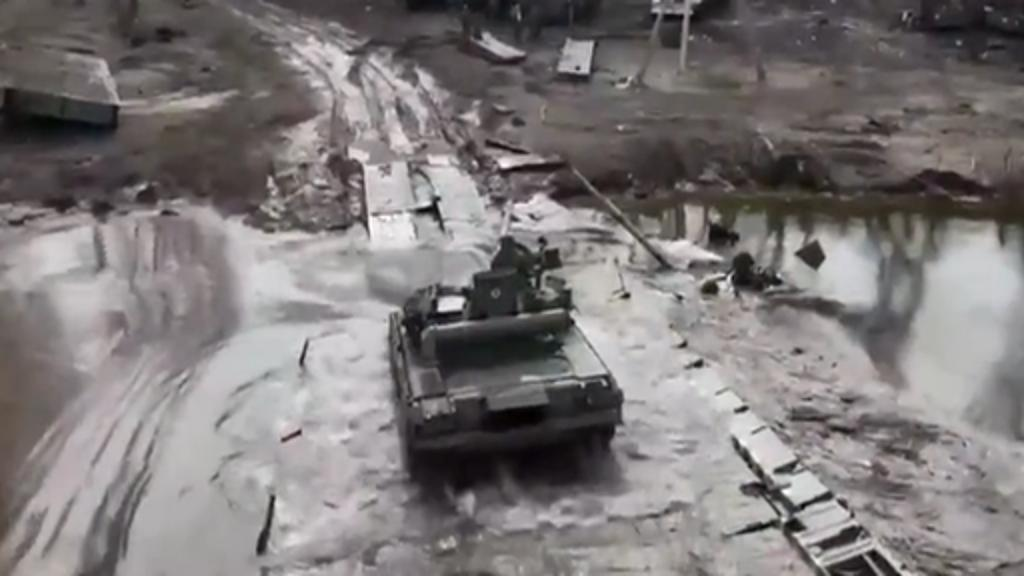TANK: (370, 252, 618, 452)
